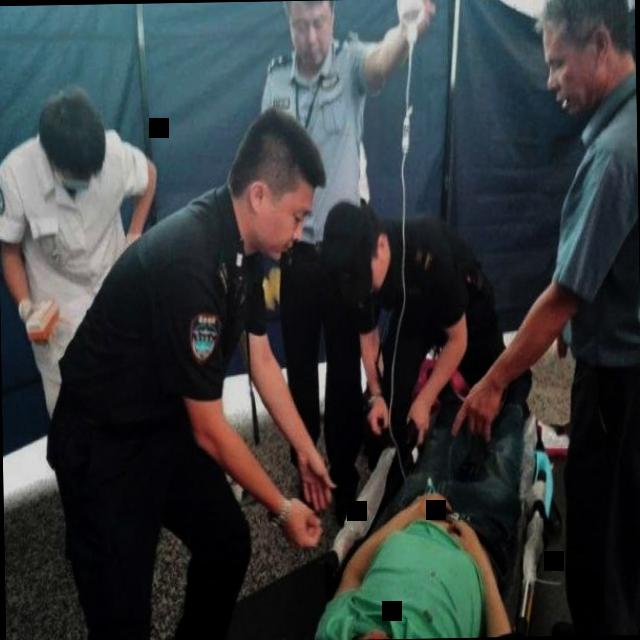Fall-Detected: (275, 338, 559, 640)
